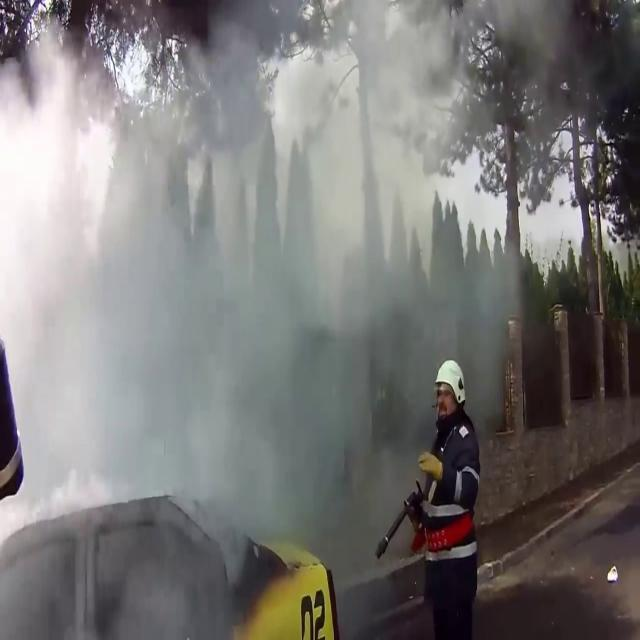Smoke: (0, 4, 555, 626)
